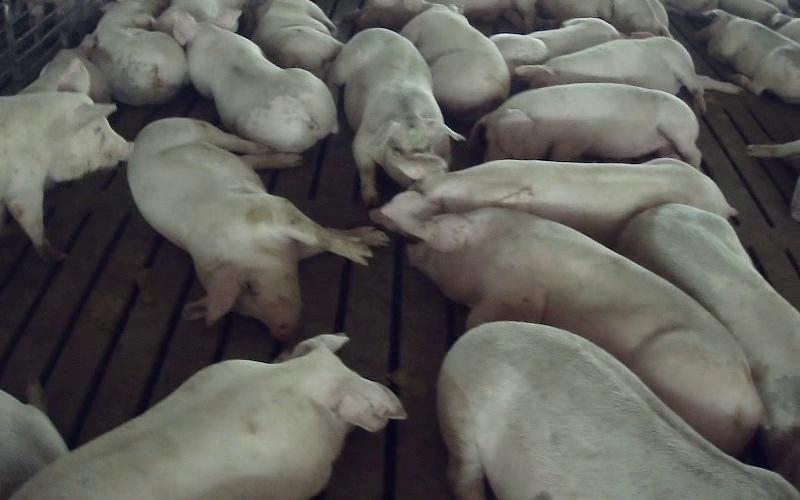pig: (408, 207, 762, 452), (14, 335, 405, 499), (438, 323, 799, 499), (127, 118, 386, 337), (616, 204, 799, 488), (0, 62, 129, 259), (173, 9, 337, 152), (330, 28, 461, 205), (476, 83, 700, 167), (515, 37, 740, 111), (401, 0, 509, 121), (89, 0, 188, 105), (698, 9, 799, 103), (491, 18, 621, 72), (253, 0, 342, 78)
